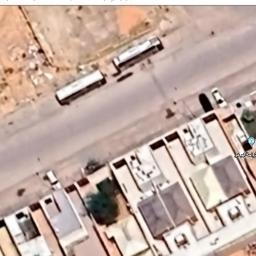SUV: (42, 170, 67, 192), (209, 86, 229, 108)
truck: (52, 67, 110, 109), (112, 35, 168, 70)
unknown: (196, 89, 218, 115)
